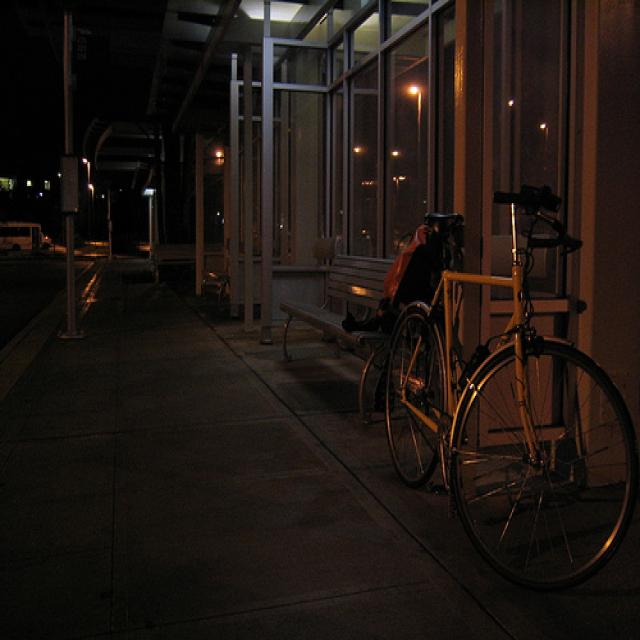Bicycle: (375, 198, 626, 535)
